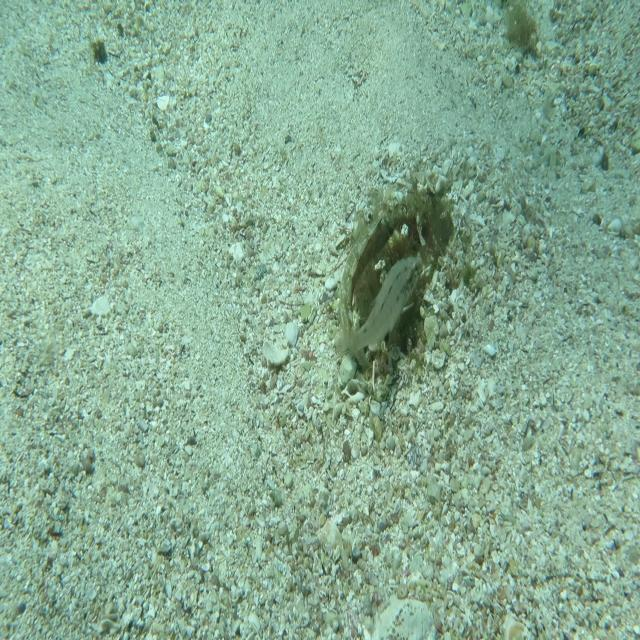BEND: (338, 209, 400, 374)
female: (335, 255, 424, 368)
nest: (336, 177, 460, 395)
